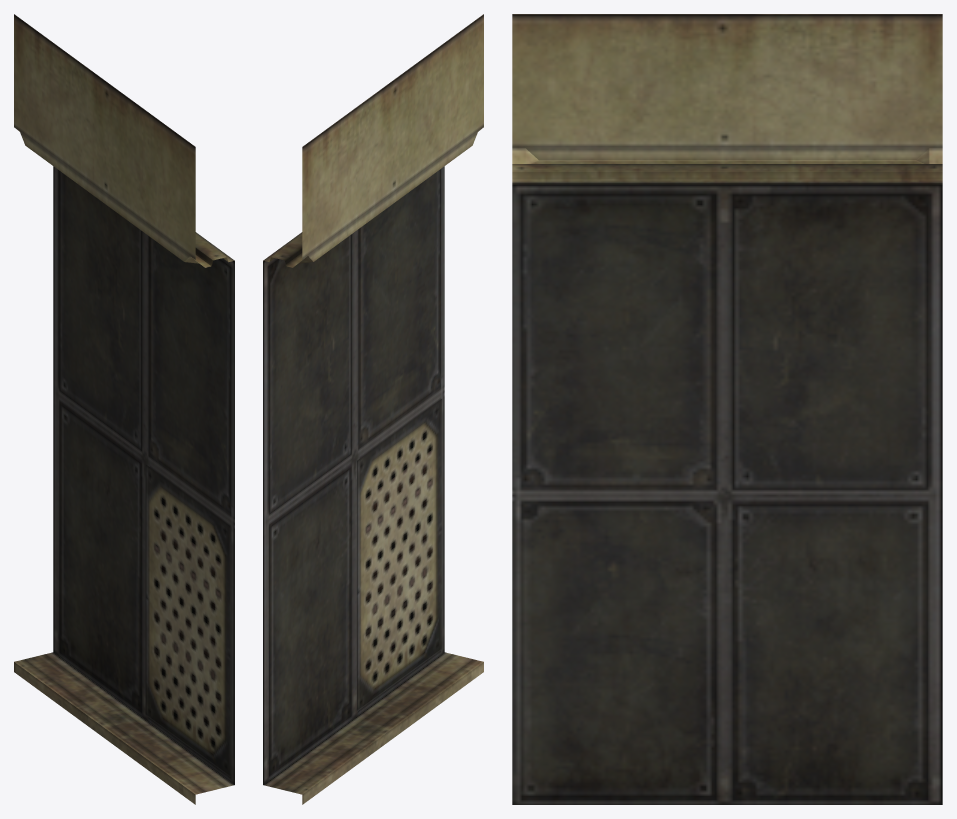
The model's file is pplant_ground_short_pipes.dae.
The picture shows the model from 3 angles, left to right: view 1: azimuth 30°, elevation 25°; view 2: azimuth 150°, elevation 25°; view 3: azimuth 270°, elevation 25°; orthographic projection. The views are drawn at different scales.
Visible parts, largest first — view 1: ground_short; view 2: ground_short; view 3: ground_short.
Boxes of the visible parts, x1,y1,x2,y2 form: ground_short: [14, 14, 234, 804]; ground_short: [263, 14, 483, 804]; ground_short: [512, 14, 942, 804].
Size of the model in its own units: 0.25 by 4 by 2.
